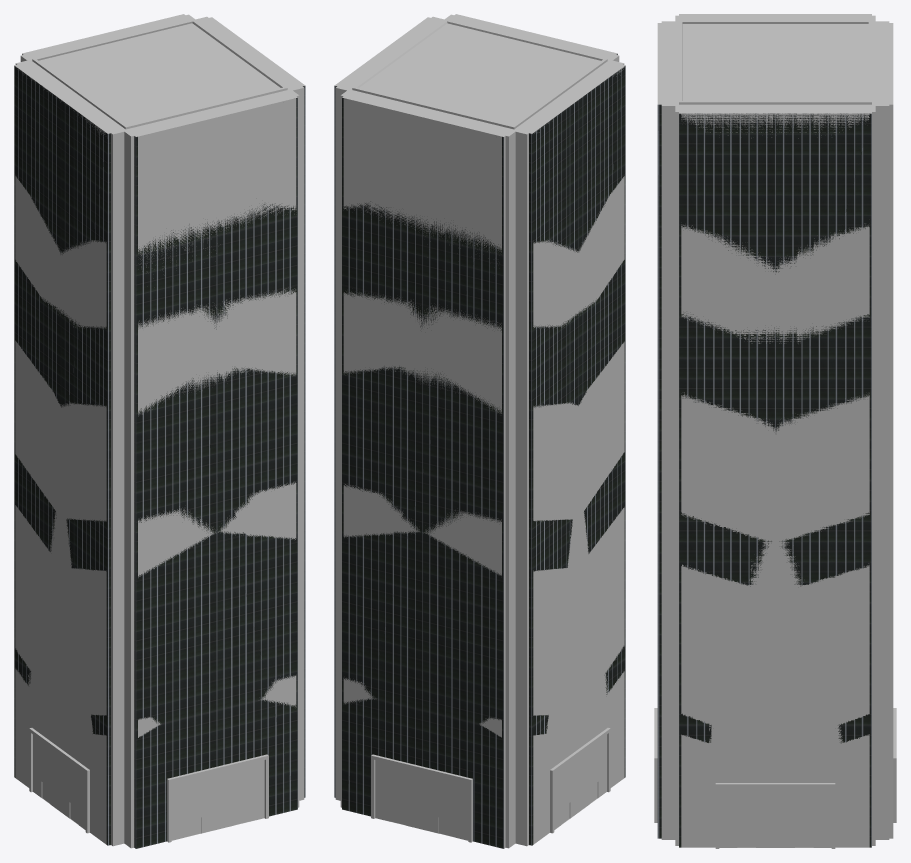
3 renders of one model, left to right at view 1: azimuth 30°, elevation 25°; view 2: azimuth 150°, elevation 25°; view 3: azimuth 270°, elevation 25°, orthographic. The views are drawn at different scales.
Parts seen in each view (by area): view 1: EC-026_LOD, EC-026; view 2: EC-026_LOD, EC-026; view 3: EC-026, EC-026_LOD.
Boxes of the visible parts, x1,y1,x2,y2 form: EC-026_LOD: (14, 14, 305, 848); EC-026: (15, 14, 304, 847); EC-026_LOD: (334, 14, 625, 848); EC-026: (335, 14, 624, 847); EC-026: (654, 14, 896, 848); EC-026_LOD: (657, 14, 893, 847).
Size of what is drawn, in the model's own units: 32.3 by 108 by 32.34.
